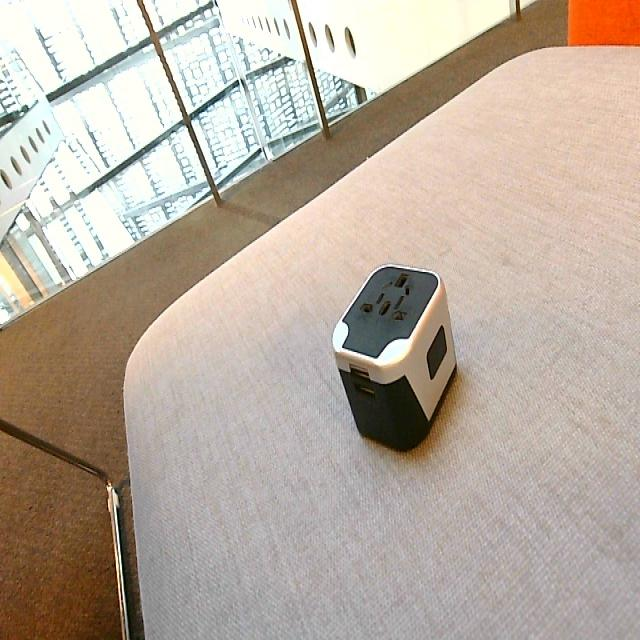adapter: (331, 261, 457, 452)
